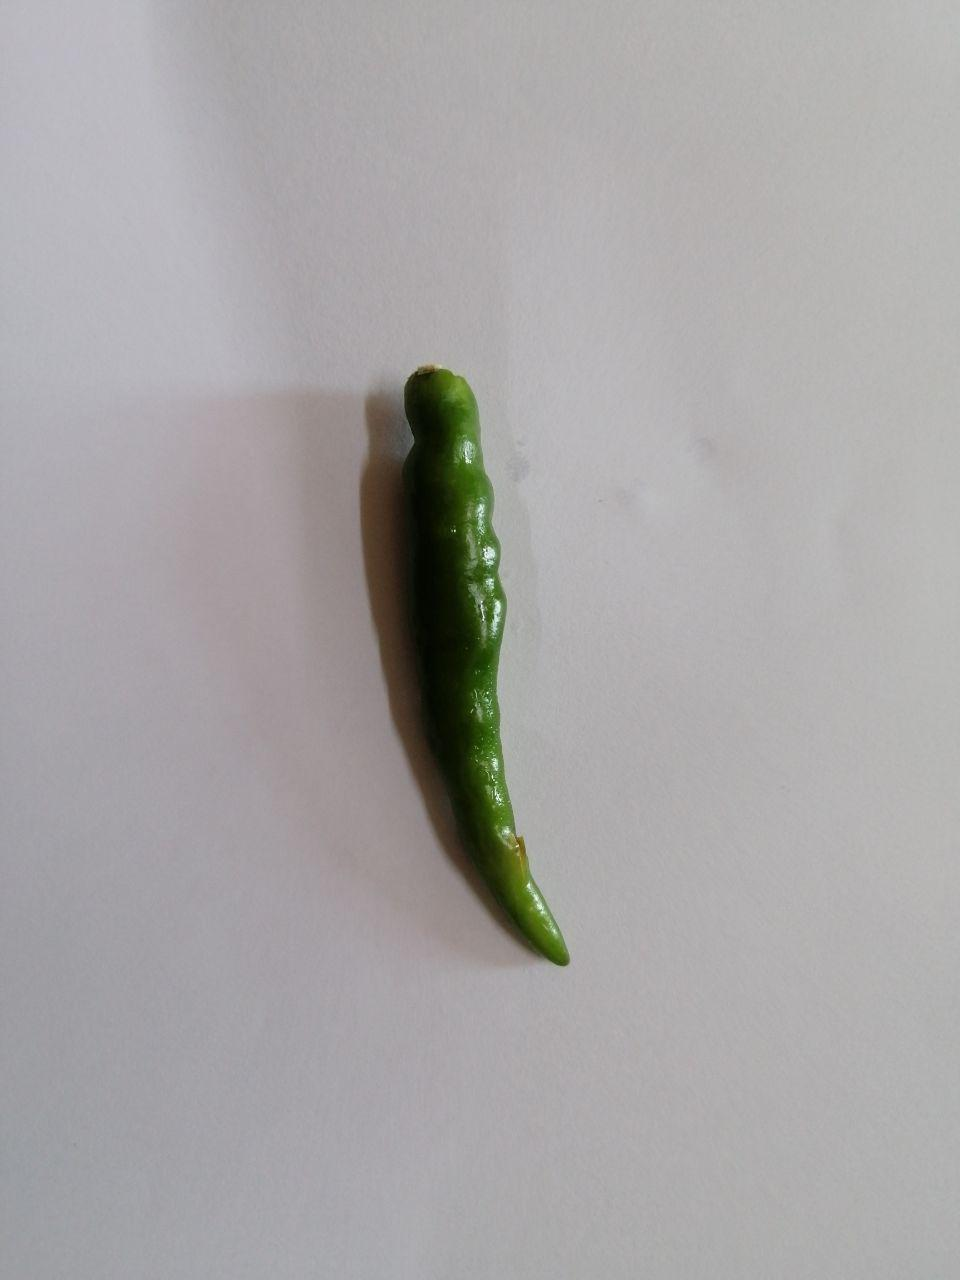lada hijau: (343, 325, 618, 992)
